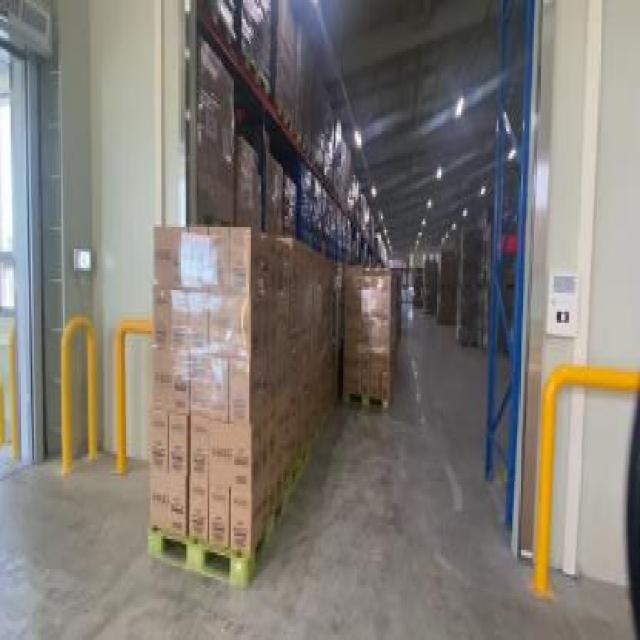box: (152, 219, 337, 580), (339, 254, 403, 413), (195, 33, 237, 224), (278, 0, 316, 148), (298, 156, 340, 262), (315, 79, 351, 200), (458, 222, 491, 350), (263, 148, 297, 243), (234, 131, 266, 230), (334, 213, 374, 279), (348, 158, 372, 244), (434, 246, 458, 331), (422, 257, 438, 312), (412, 262, 425, 312)
